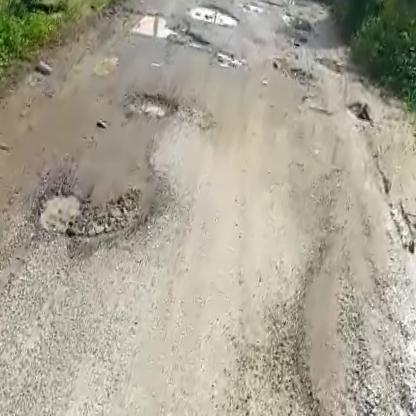pothole: (20, 166, 144, 256), (116, 3, 184, 44), (123, 86, 180, 125), (188, 1, 240, 30)
